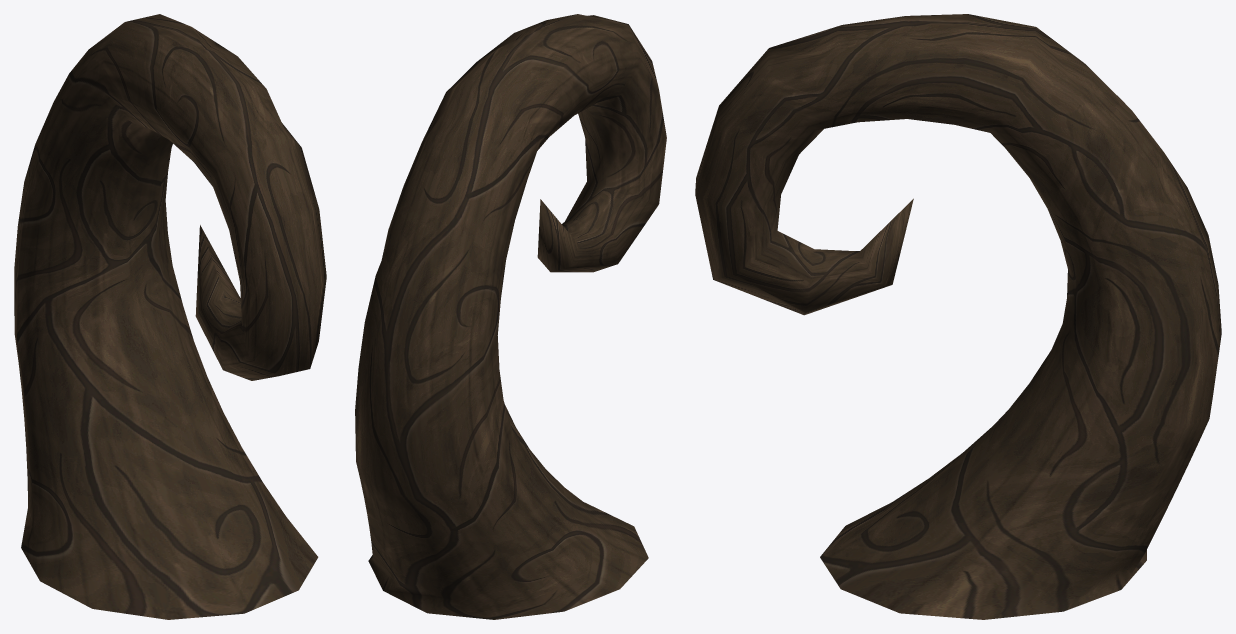
The model's file is rootGreen6.fbx.
3 views of the same model, side by side, from view 1: azimuth 30°, elevation 25°; view 2: azimuth 150°, elevation 25°; view 3: azimuth 270°, elevation 25° (orthographic). The views are drawn at different scales.
Parts seen in each view (by area): view 1: rootGreen6; view 2: rootGreen6; view 3: rootGreen6.
Boxes of the visible parts, box(x1,y1,x2,y2) form: rootGreen6: box(14, 14, 326, 619); rootGreen6: box(355, 14, 666, 619); rootGreen6: box(695, 14, 1221, 619).
Size of the model in its own units: 348 by 718 by 634.
